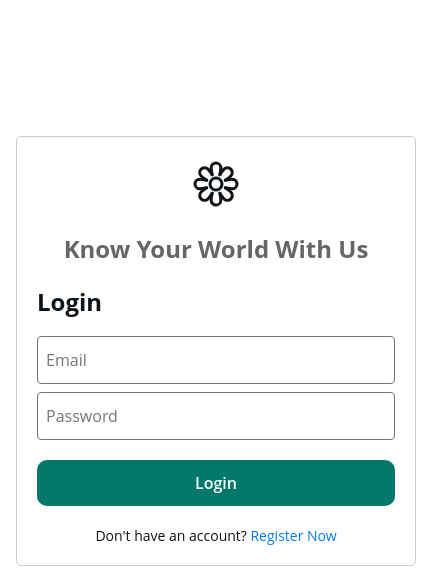
Test: Login Page › should show error message with invalid credentials
Type "user@example.com" into the field with placeholder "Email".
click(216, 360); type("user@example.com")  # box [37, 336, 395, 384]
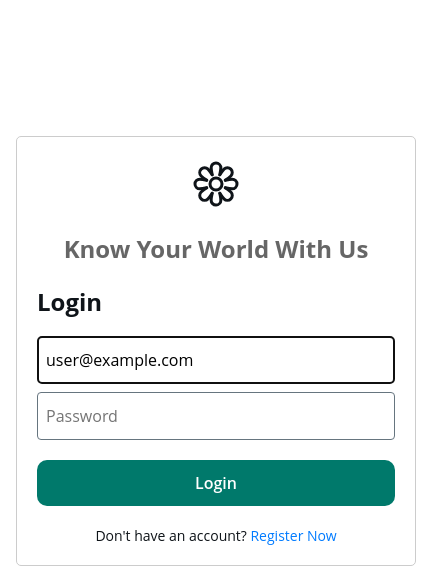
Type "wrongpassword" into the password field with placeholder "Password".
click(216, 416); type("wrongpassword")  # box [37, 392, 395, 440]
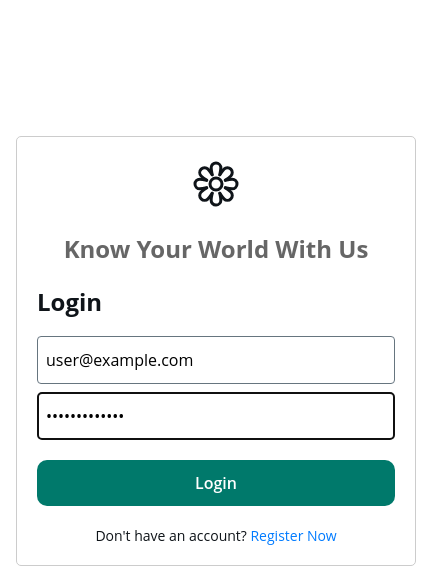
Click the button "Login".
click(216, 483)  # box [37, 460, 395, 506]
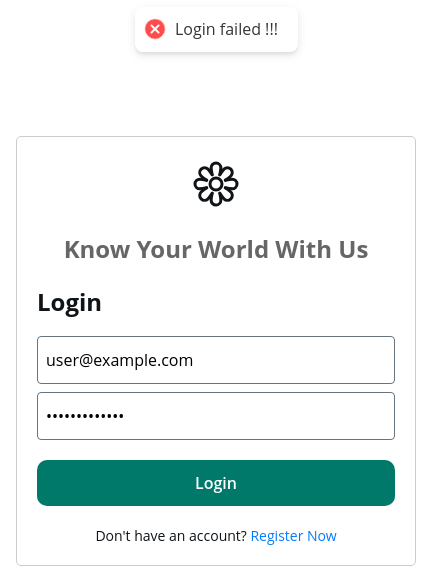
Expected: the text "Login failed" is shown, [175, 18, 278, 40]
